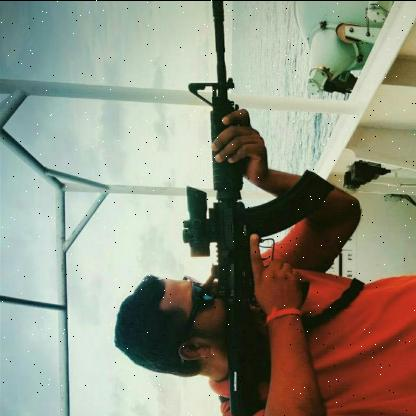rifle: (180, 0, 336, 416)
